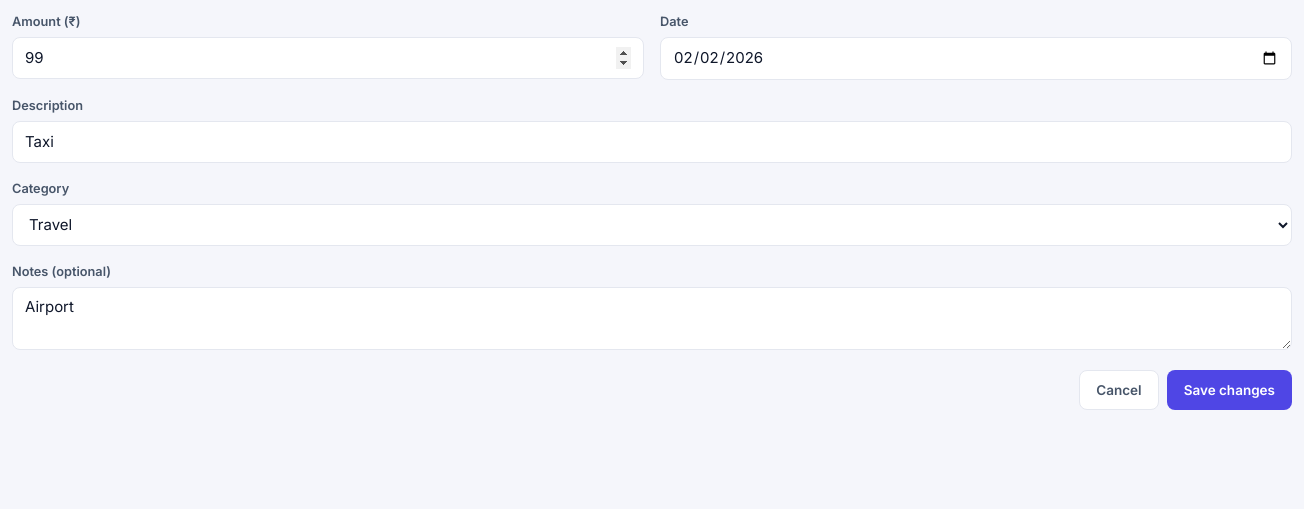
Test: <ExpenseForm /> › pre-fills when editing and shows server-side errors
Check: the field labelled "Description" holds "Taxi", box x1=12 y1=121 x2=1292 y2=163
Check: the dropdown labelled "Category" shows "Travel", box x1=12 y1=204 x2=1292 y2=246
Click the button "Save changes" at (1229, 390), box x1=1167 y1=370 x2=1292 y2=410
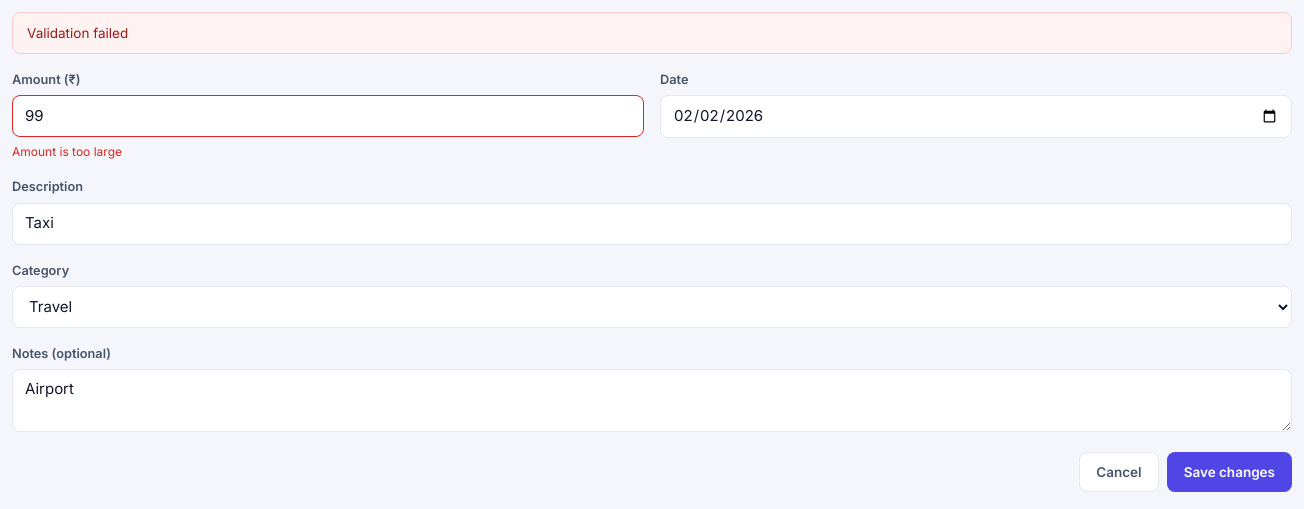
Check: the text "Validation failed" is shown, box x1=27 y1=23 x2=128 y2=43
Check: the text "Amount is too large" is shown, box x1=12 y1=144 x2=122 y2=159
